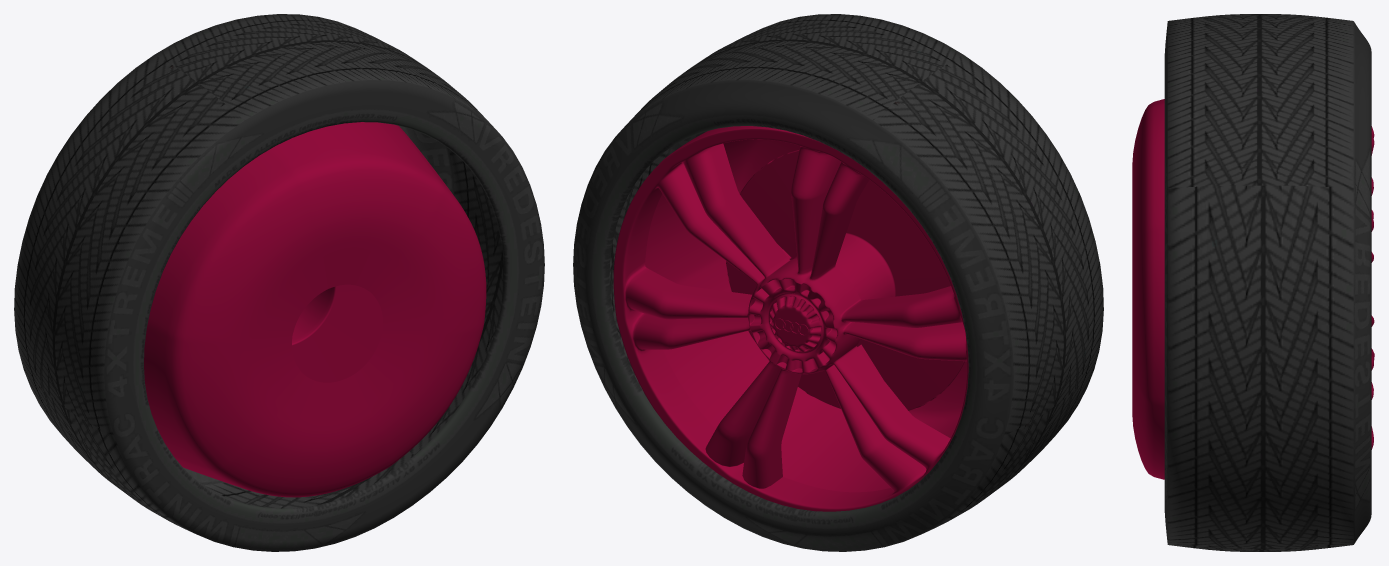
Rendered from llantaI.fbx.
3 views of the same model, side by side, from view 1: azimuth 30°, elevation 25°; view 2: azimuth 150°, elevation 25°; view 3: azimuth 270°, elevation 25° (orthographic). The views are drawn at different scales.
Parts seen in each view (by area): view 1: teker.005; view 2: teker.005; view 3: teker.005.
Boxes of the visible parts, x1,y1,x2,y2 form: teker.005: [14, 14, 544, 551]; teker.005: [573, 14, 1103, 551]; teker.005: [1132, 14, 1374, 551].
Size of the model in its own units: 133 by 132 by 59.68.
